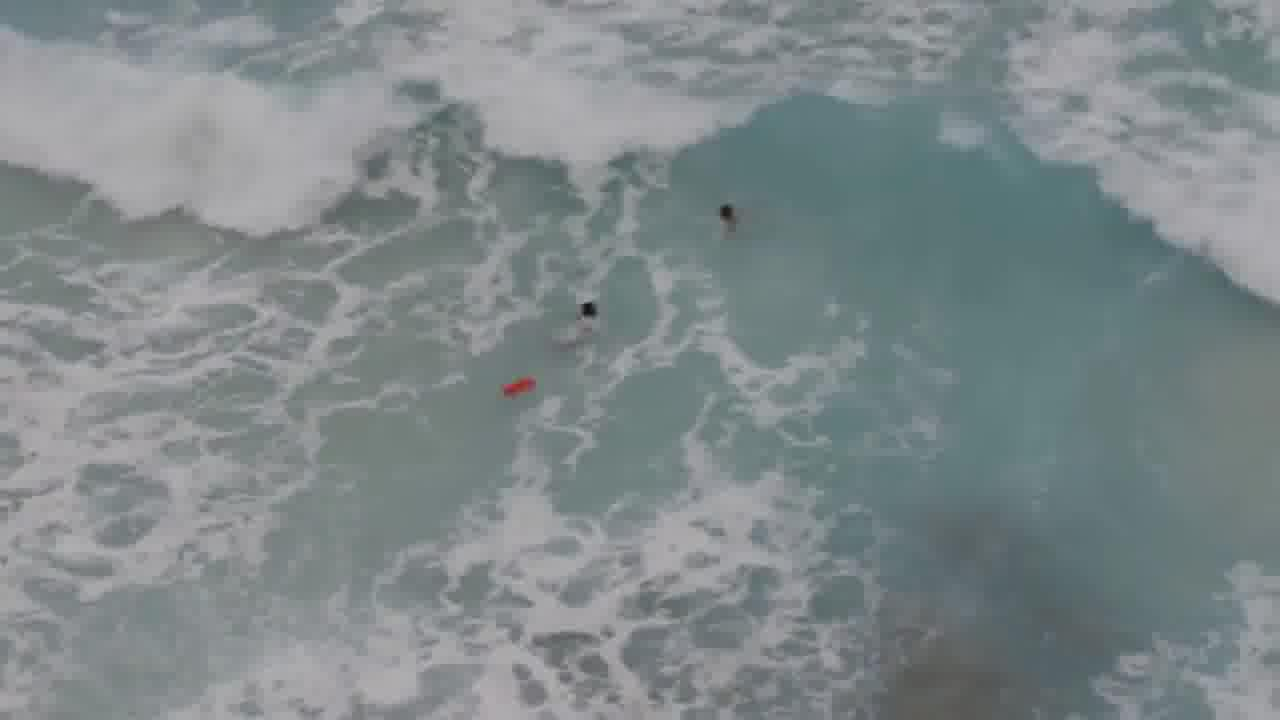human: (707, 189, 746, 239), (562, 290, 609, 330)
